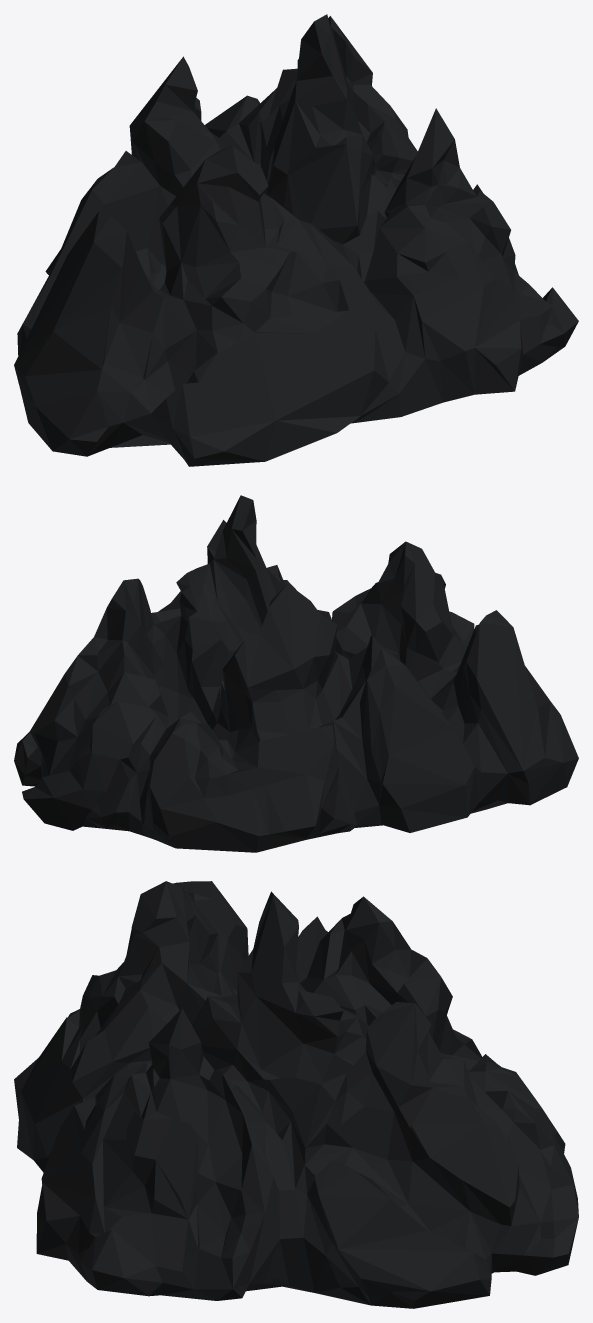
File: pit_spikes_a.gltf
3 renders of one model, top to bottom at view 1: azimuth 30°, elevation 25°; view 2: azimuth 150°, elevation 25°; view 3: azimuth 270°, elevation 25°, orthographic. The views are drawn at different scales.
Parts seen in each view (by area): view 1: pit_spikes_a; view 2: pit_spikes_a; view 3: pit_spikes_a.
Part boxes in pixels (bbox=[...]): pit_spikes_a: bbox=[14, 14, 578, 466]; pit_spikes_a: bbox=[14, 495, 578, 852]; pit_spikes_a: bbox=[14, 881, 578, 1308].
Bounding box in the file's own units: 16.22 × 9.33 × 14.44.
Materials: 1 (1 with a texture image).
